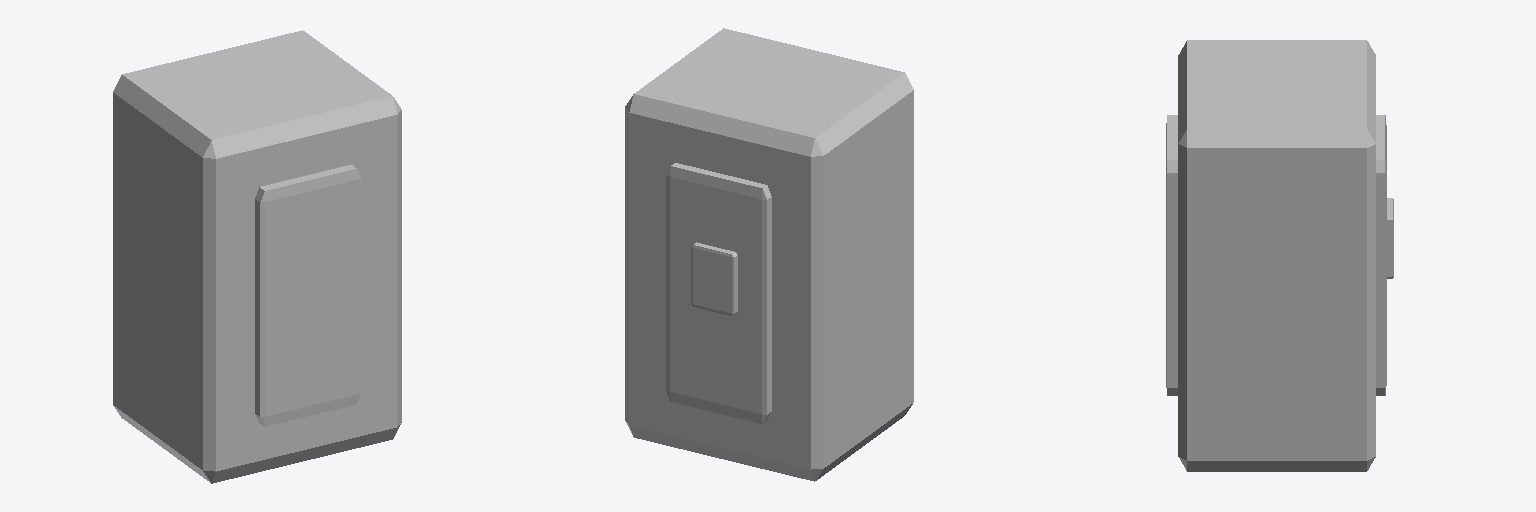
The model's file is Droid_upperBody_New.obj.
3 views of the same model, side by side, from view 1: azimuth 30°, elevation 25°; view 2: azimuth 150°, elevation 25°; view 3: azimuth 270°, elevation 25° (orthographic).
Parts seen in each view (by area): view 1: Cube_Cube.001, Cube.001_Cube.002; view 2: Cube_Cube.001, Cube.002_Cube.003, Cube.003_Cube.004; view 3: Cube_Cube.001, Cube.001_Cube.002, Cube.002_Cube.003, Cube.003_Cube.004.
Boxes of the visible parts, <box> form: Cube_Cube.001: <box>113,30,401,483</box>; Cube.001_Cube.002: <box>255,165,361,426</box>; Cube_Cube.001: <box>625,28,913,481</box>; Cube.002_Cube.003: <box>666,163,771,423</box>; Cube.003_Cube.004: <box>691,242,737,315</box>; Cube_Cube.001: <box>1178,40,1375,471</box>; Cube.001_Cube.002: <box>1166,115,1177,395</box>; Cube.002_Cube.003: <box>1376,115,1386,395</box>; Cube.003_Cube.004: <box>1387,198,1393,278</box>.
Size of the model in its own units: 1.16 by 1.9 by 1.14.